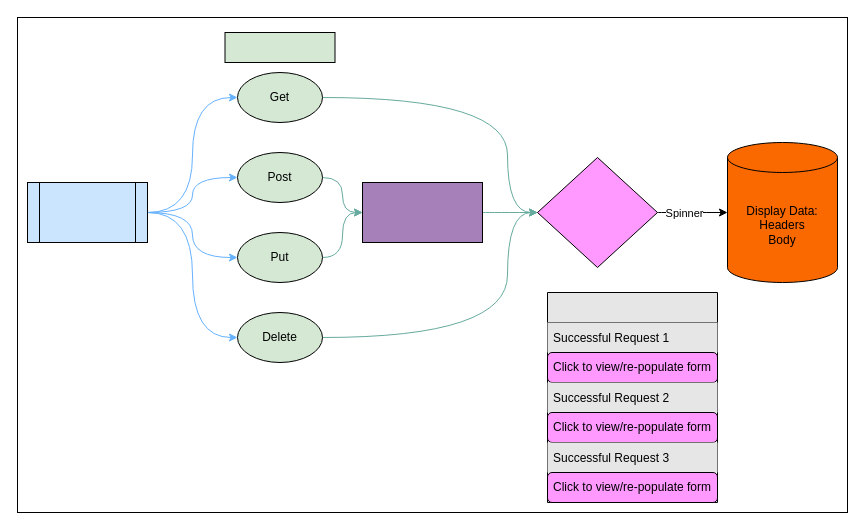
This 865x530 diagram has some shape labels left out. Each missing label, with the box of its shape:
Button Click: (536, 156, 658, 268)
History: (546, 292, 718, 502)
JSON Body Request: (362, 182, 482, 242)
Select A REST Method: (224, 32, 335, 62)
User Input: API EndPoint: (26, 182, 148, 242)
